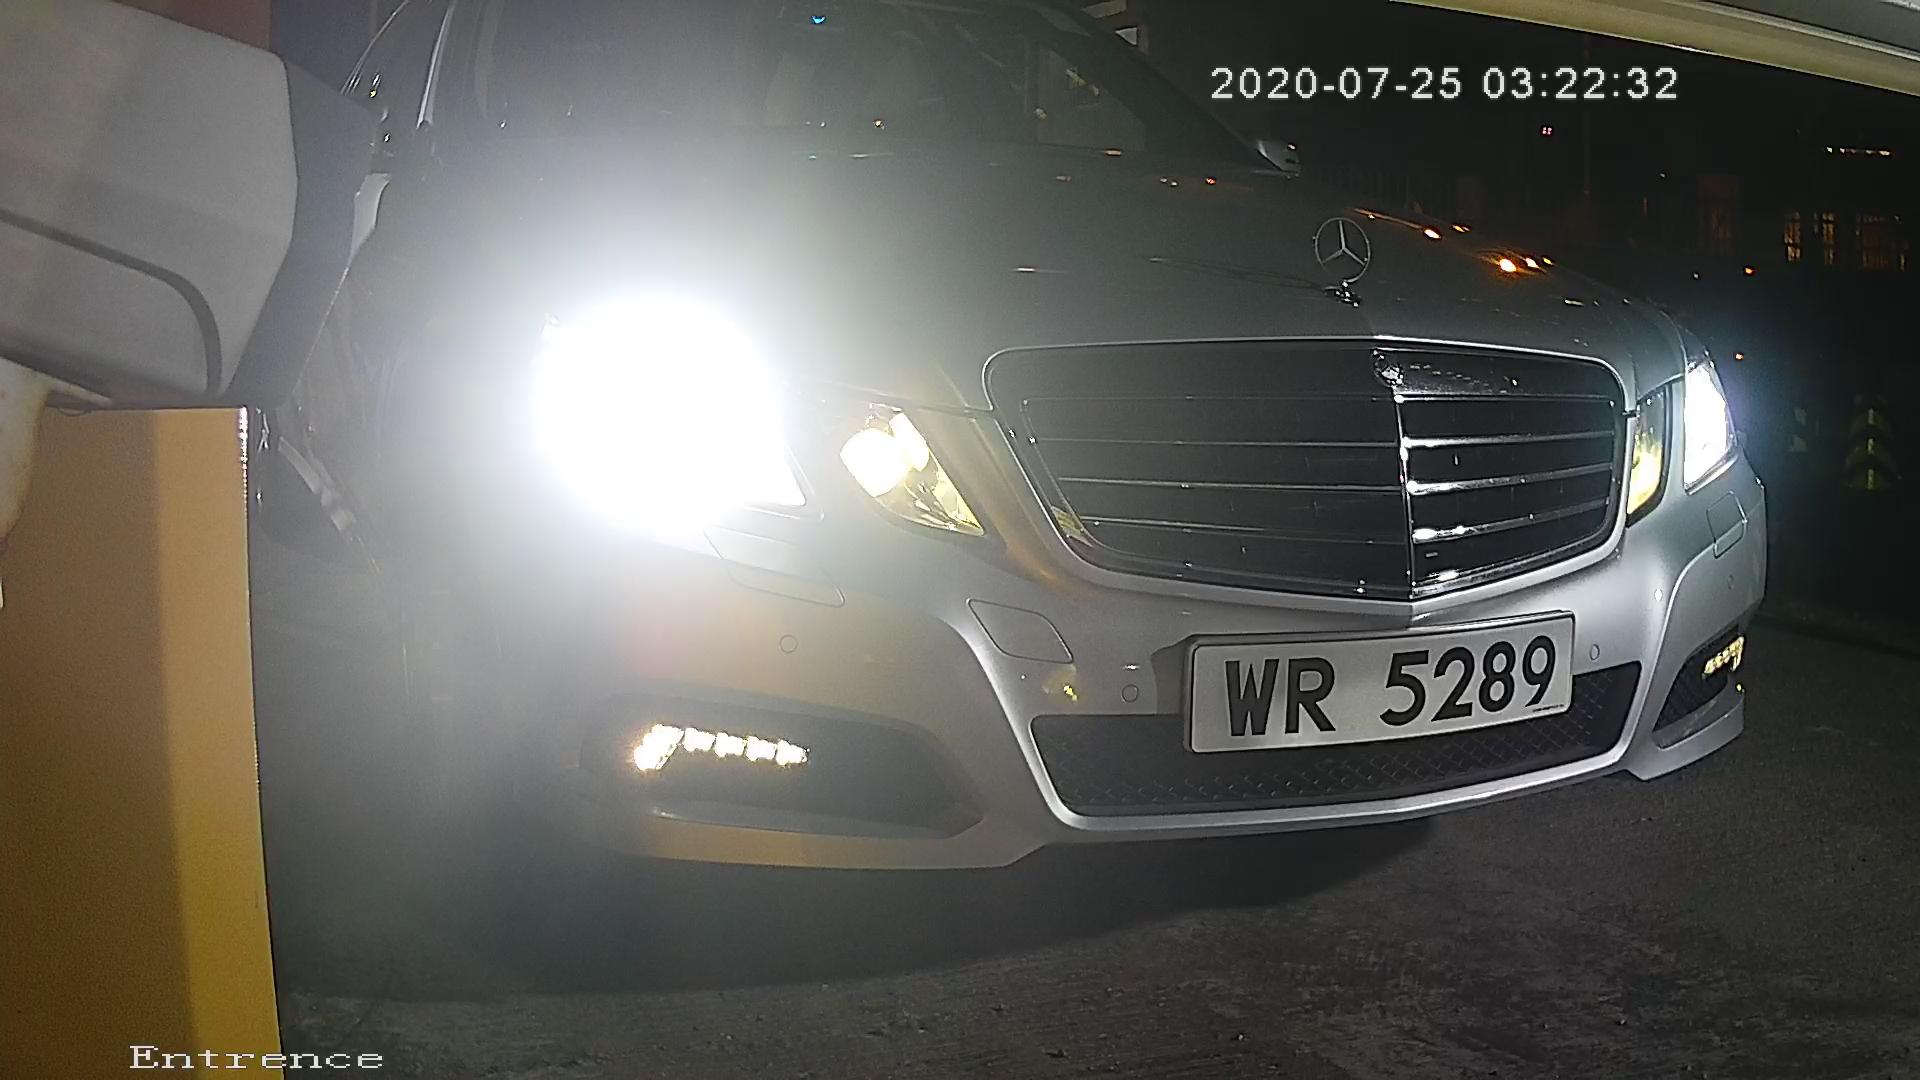Car: (121, 1, 1852, 960)
License Plate: (1183, 594, 1603, 777)
